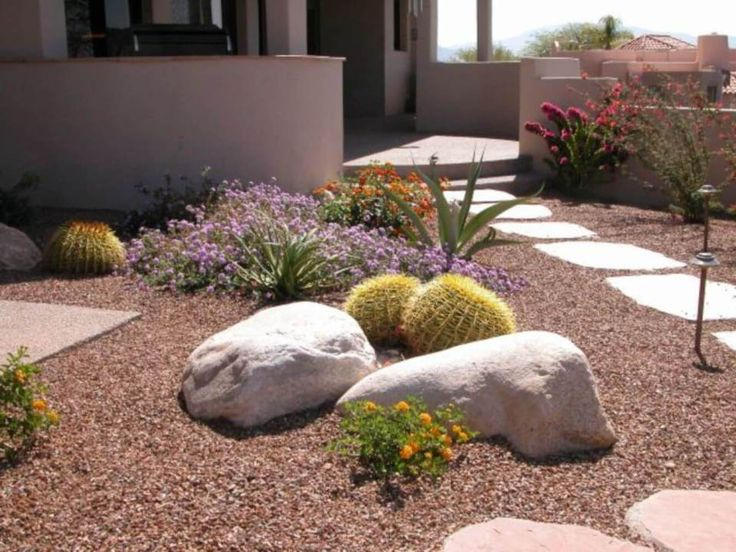rock: (333, 329, 617, 455), (179, 300, 376, 427)
